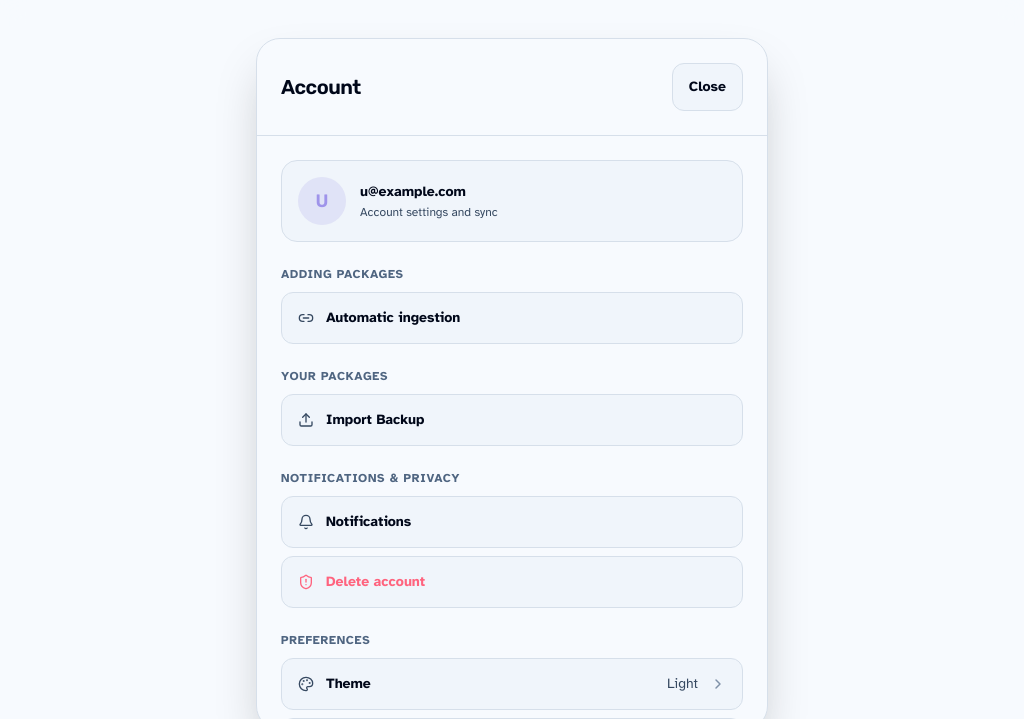
it: AccountModal — accessibility & form semantics › associates the delete confirmation label with its input via htmlFor and id
Click the button "Delete account".
click(376, 582)  # box [281,556,743,608]
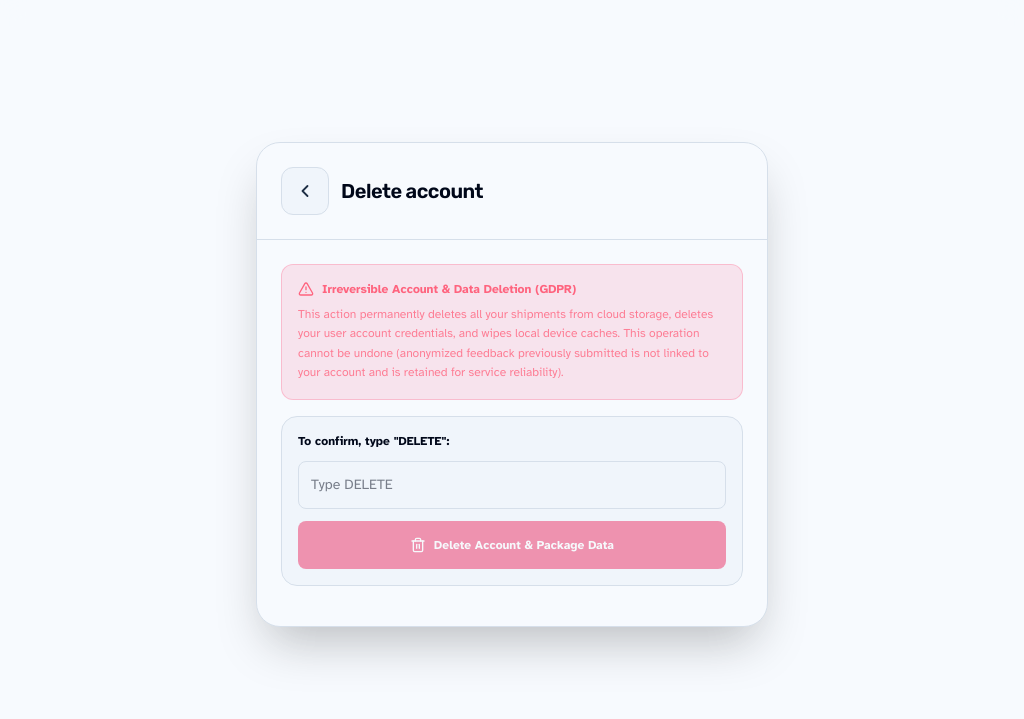
Result: the field labelled "To confirm, type \"DELETE\":" is shown at [298,460,726,508]
